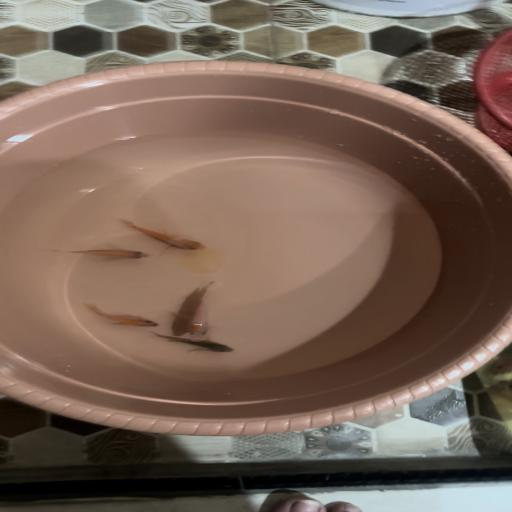nila: (123, 217, 212, 252), (182, 280, 226, 343), (48, 240, 156, 264), (82, 302, 166, 332), (149, 332, 237, 358)
